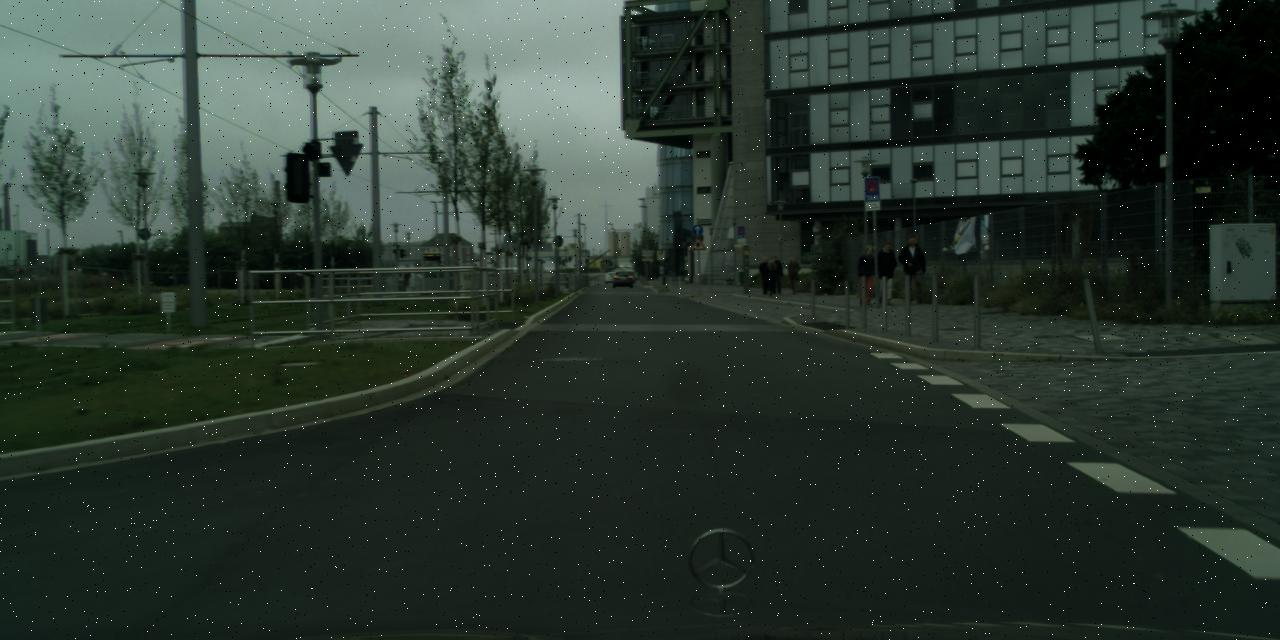ped: (899, 234, 926, 302), (873, 242, 899, 306), (855, 244, 880, 307), (767, 255, 782, 294), (758, 256, 773, 293), (764, 258, 778, 296), (786, 257, 800, 294), (402, 263, 411, 285)
